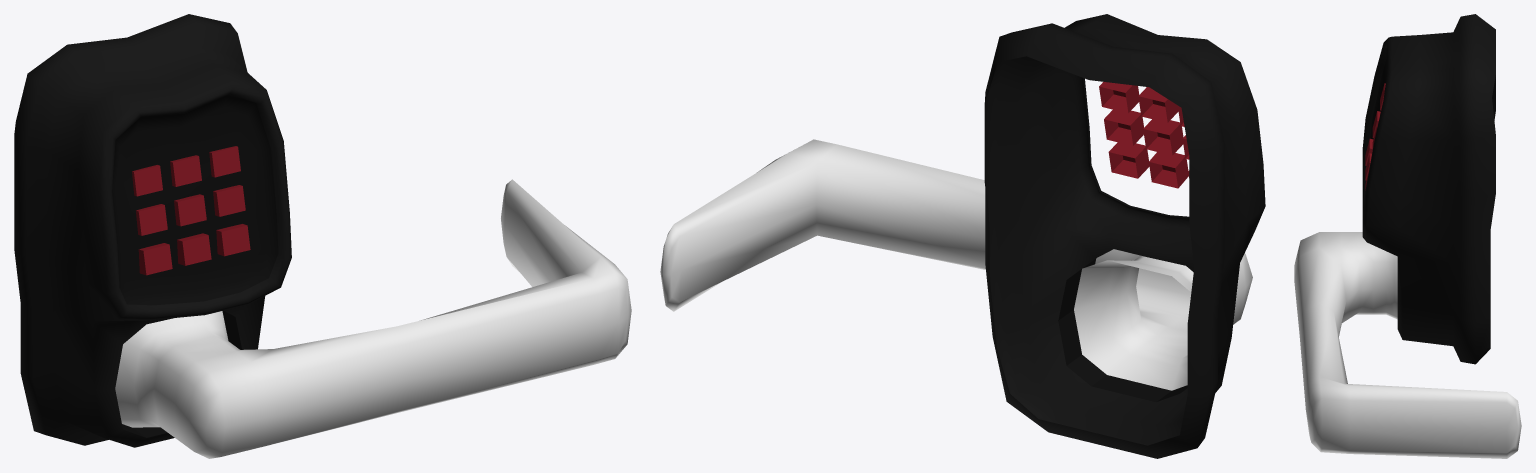
Rendered from Keypad2.fbx.
3 views of the same model, side by side, from view 1: azimuth 30°, elevation 25°; view 2: azimuth 150°, elevation 25°; view 3: azimuth 270°, elevation 25° (orthographic). The views are drawn at different scales.
Visible parts, largest first — view 1: Box005, Handle; view 2: Box005, Handle; view 3: Box005, Handle.
Boxes of the visible parts, left/top/right/bottom form: Box005: left=14, top=14, right=291, bottom=447; Handle: left=115, top=179, right=631, bottom=458; Box005: left=984, top=14, right=1265, bottom=458; Handle: left=660, top=139, right=1252, bottom=390; Box005: left=1362, top=14, right=1495, bottom=364; Handle: left=1294, top=232, right=1521, bottom=458.
Bounding box in the file's own units: 2026 × 1470 × 983.
